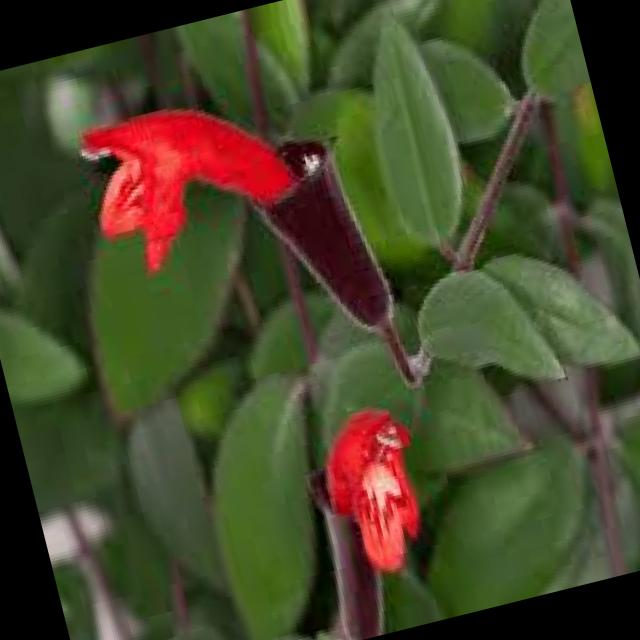Lipstick-Plant: (27, 0, 541, 640)
